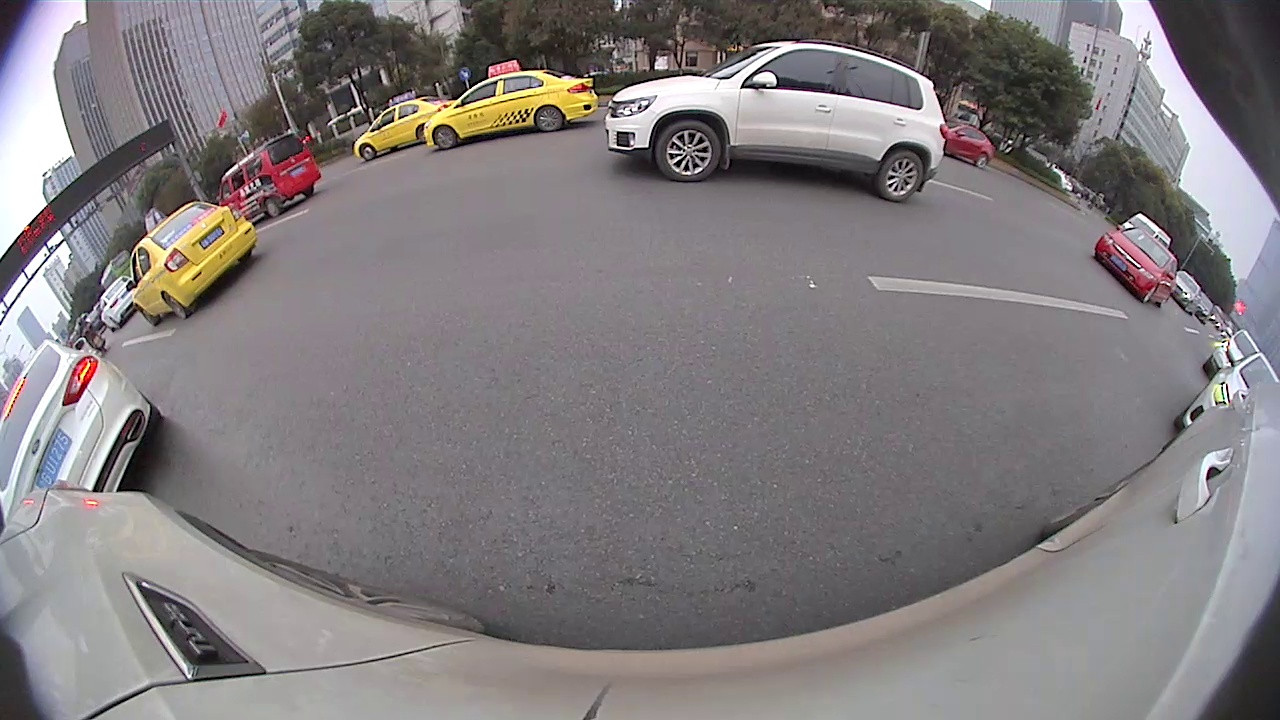car: (608, 43, 945, 204), (1, 340, 154, 504), (131, 202, 258, 324), (425, 61, 594, 148), (218, 133, 320, 220), (1180, 353, 1276, 434), (1095, 228, 1177, 307), (354, 98, 448, 161), (942, 126, 993, 173), (98, 278, 137, 328)
front: (659, 121, 721, 183), (433, 124, 459, 151), (361, 144, 377, 163)
rear: (876, 151, 924, 204), (534, 104, 564, 132), (163, 291, 189, 319), (262, 196, 281, 219)
